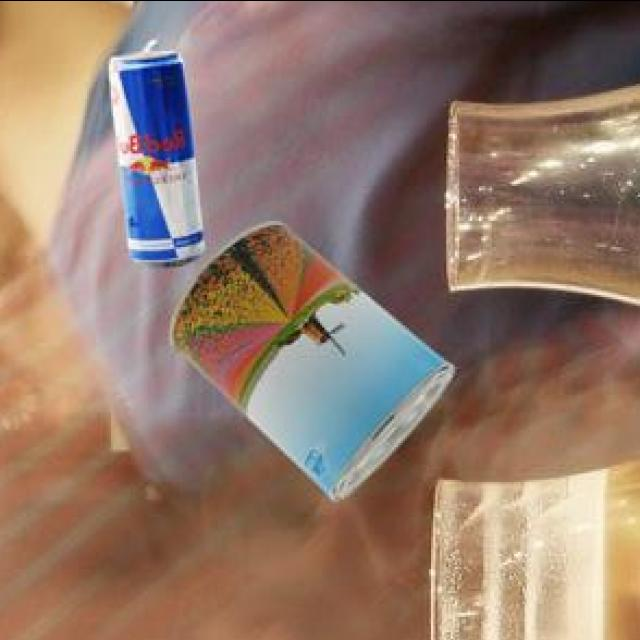logam: (167, 217, 452, 497), (106, 34, 201, 262)
